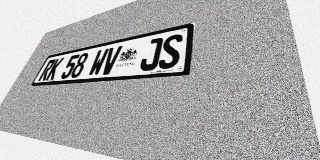5: (59, 54, 80, 79)
8: (69, 52, 90, 78)
J: (138, 37, 164, 71)
K: (45, 57, 64, 80)
R: (37, 59, 56, 81)
S: (157, 33, 183, 70)
V: (99, 45, 123, 75)
W: (87, 48, 109, 76)
